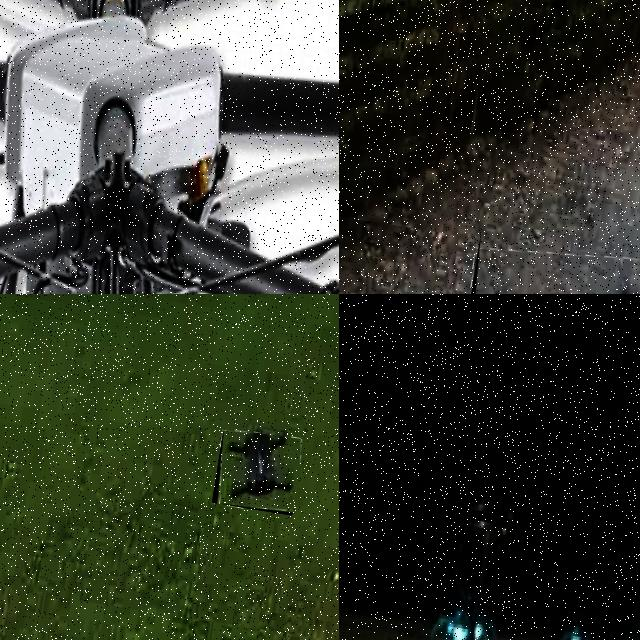drone: (0, 0, 339, 294), (212, 426, 304, 516)
